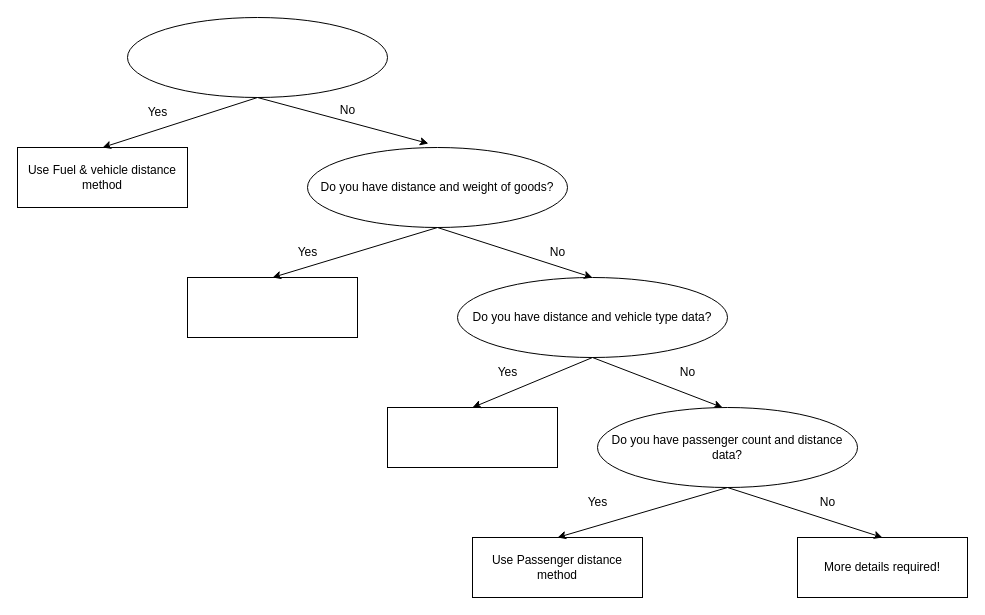
The diagram is 985 pixels wide and 615 high, and some of its shapes have lost their labels. Each missing label, with the box of its shape:
Do you have fuel consumption data for the transport?: (126, 16, 388, 98)
Use Vehicle distance method: (386, 406, 558, 468)
Use Weight distance method: (186, 276, 358, 338)
